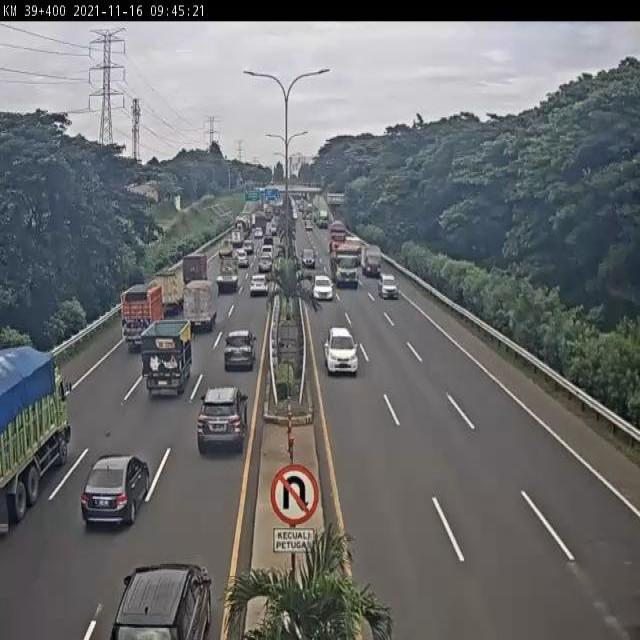car: (82, 453, 150, 528), (195, 391, 248, 460), (324, 324, 359, 376), (222, 331, 256, 372), (376, 270, 400, 298), (310, 269, 331, 296), (249, 276, 270, 299), (232, 249, 249, 271), (258, 257, 273, 276)
small truck: (183, 279, 217, 336), (148, 268, 181, 313), (217, 236, 234, 260)
truck-l-: (0, 346, 72, 534), (330, 236, 359, 284)
truck-m-: (142, 323, 193, 400), (120, 282, 162, 346), (179, 252, 207, 285), (214, 258, 239, 294)
